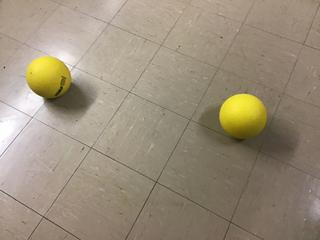power_cell: (214, 91, 274, 145), (25, 57, 78, 103)
